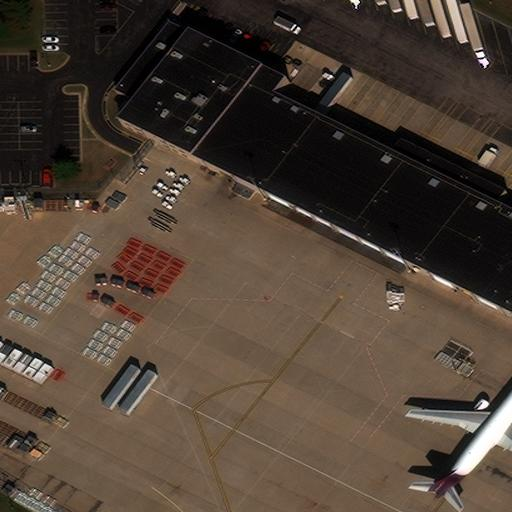Large Civil Transport: (408, 381, 512, 496)
